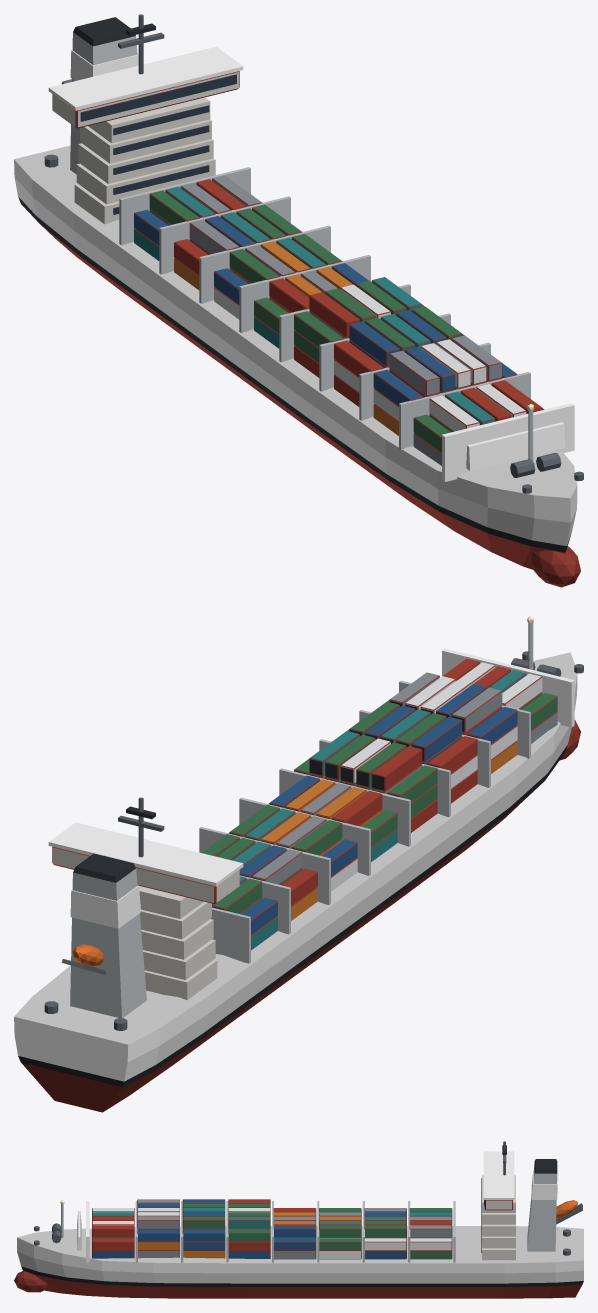
Rendered from trade_ship.glb.
3 views of the same model, one above another, from view 1: azimuth 30°, elevation 25°; view 2: azimuth 150°, elevation 25°; view 3: azimuth 270°, elevation 25° (orthographic). The views are drawn at different scales.
Visible parts, largest first — view 1: TradeShip; view 2: TradeShip; view 3: TradeShip.
Boxes of the visible parts, left/top/right/bottom form: TradeShip: left=14, top=14, right=583, bottom=587; TradeShip: left=14, top=616, right=583, bottom=1112; TradeShip: left=14, top=1141, right=583, bottom=1298.
Size of the model in its own units: 0.194 by 0.292 by 1.01.
